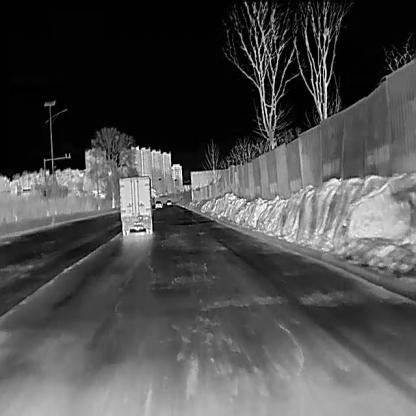car: (154, 199, 163, 208), (165, 197, 171, 205)
truck: (118, 174, 154, 236)
